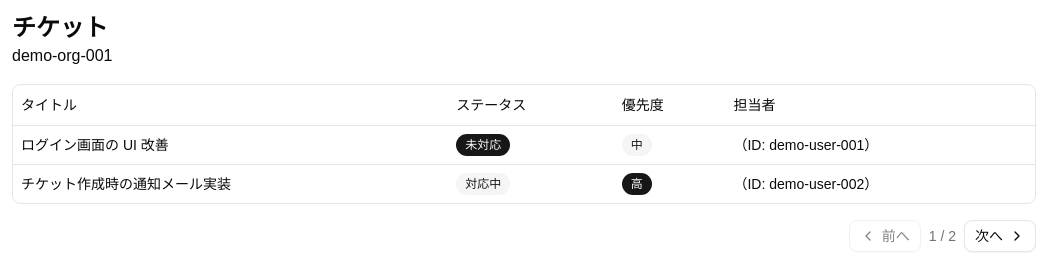
OrganizationTicketsPage › ページ切り替えで表示チケットが変わる
Expected: the link "ログイン画面の UI 改善" is shown, [21,136,169,152]
Expected: the text "ユーザー一覧のページネーション対応" is not shown
Click the button "次へ" at [1000, 236], box [964,220,1036,252]
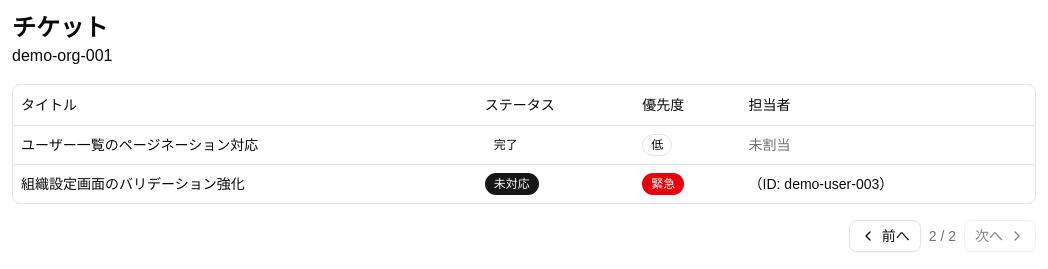
Now the link "ログイン画面の UI 改善" is gone
Now the link "ユーザー一覧のページネーション対応" is shown, box [21,136,258,152]
